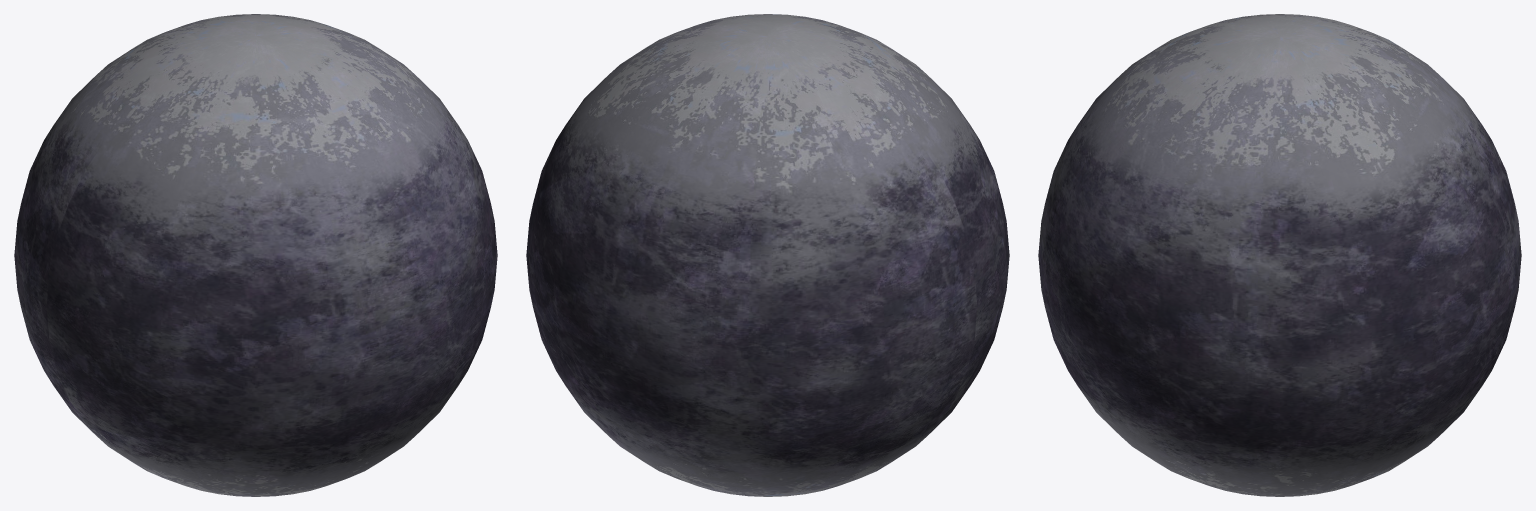
Rendered from pinkplanet.fbx.
3 renders of one model, left to right at view 1: azimuth 30°, elevation 25°; view 2: azimuth 150°, elevation 25°; view 3: azimuth 270°, elevation 25°, orthographic.
Visible parts, largest first — view 1: Object_6.001; view 2: Object_6.001; view 3: Object_6.001.
Part boxes in pixels (x1,y1,x2,y2): Object_6.001: (14,14,497,496); Object_6.001: (526,14,1009,496); Object_6.001: (1038,14,1521,496).
Bounding box in the file's own units: 970 × 970 × 970.
